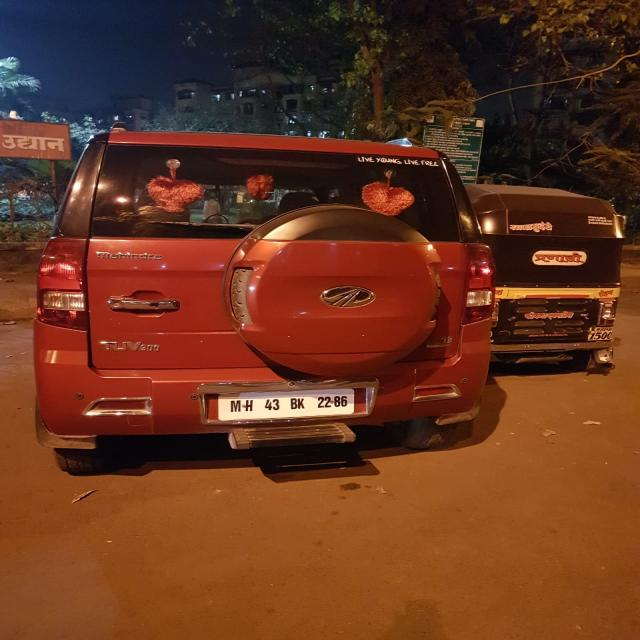Number-Plate: (222, 390, 352, 418)
